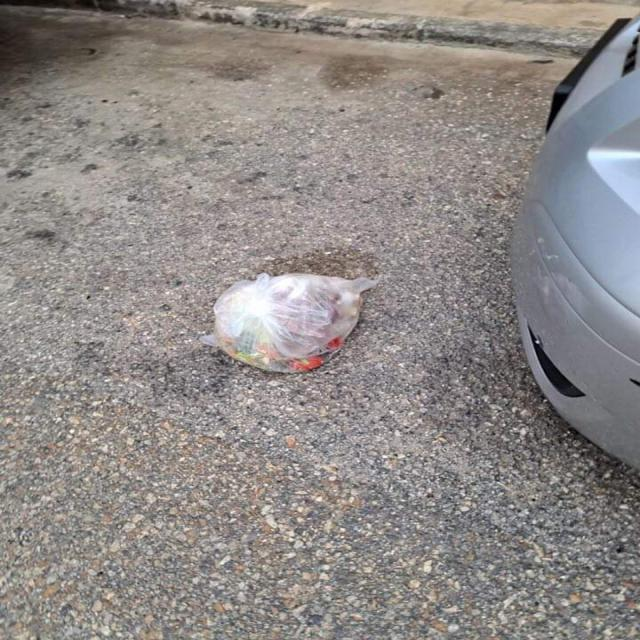Organic Waste -White Bag-: (214, 274, 380, 377)
